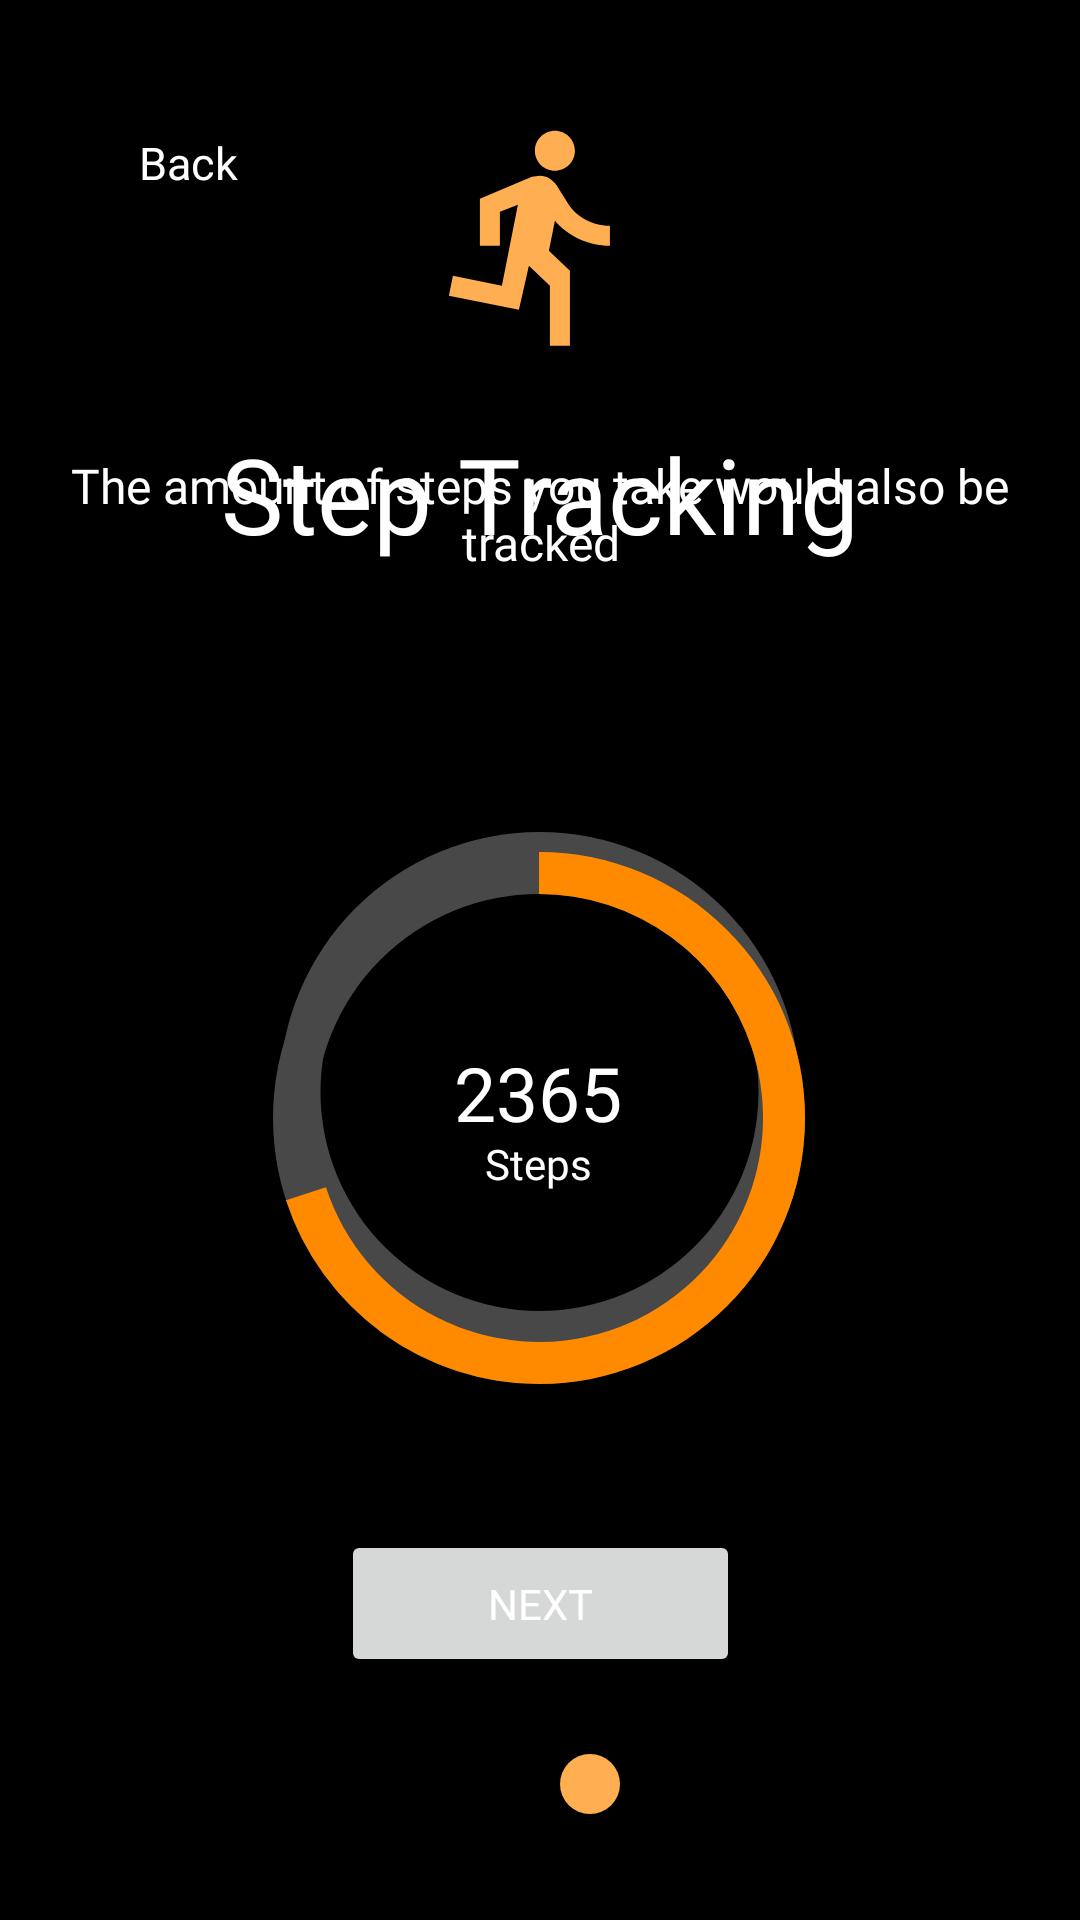

Screen size 1080px×1920px. Icon name, then its box in pixels as detection(x1, y1, x2, y2):
directions run: detection(449, 130, 610, 346)
